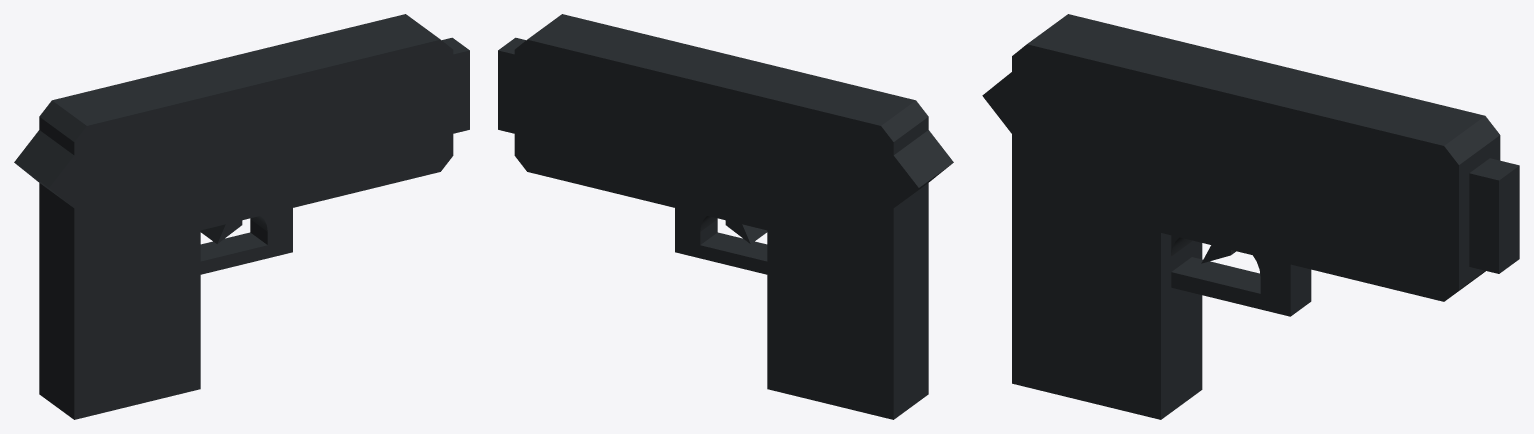
File: Basic Pistol.glb
The picture shows the model from 3 angles, left to right: view 1: azimuth 30°, elevation 25°; view 2: azimuth 150°, elevation 25°; view 3: azimuth 330°, elevation 25°; orthographic projection. The views are drawn at different scales.
Visible parts, largest first — view 1: generated(Clone); view 2: generated(Clone); view 3: generated(Clone).
Part boxes in pixels (x1,y1,x2,y2): generated(Clone): [14, 14, 469, 419]; generated(Clone): [498, 14, 953, 419]; generated(Clone): [982, 14, 1519, 419].
Bounding box in the file's own units: 17 × 11 × 2.4.
1 material, 1 textured.
